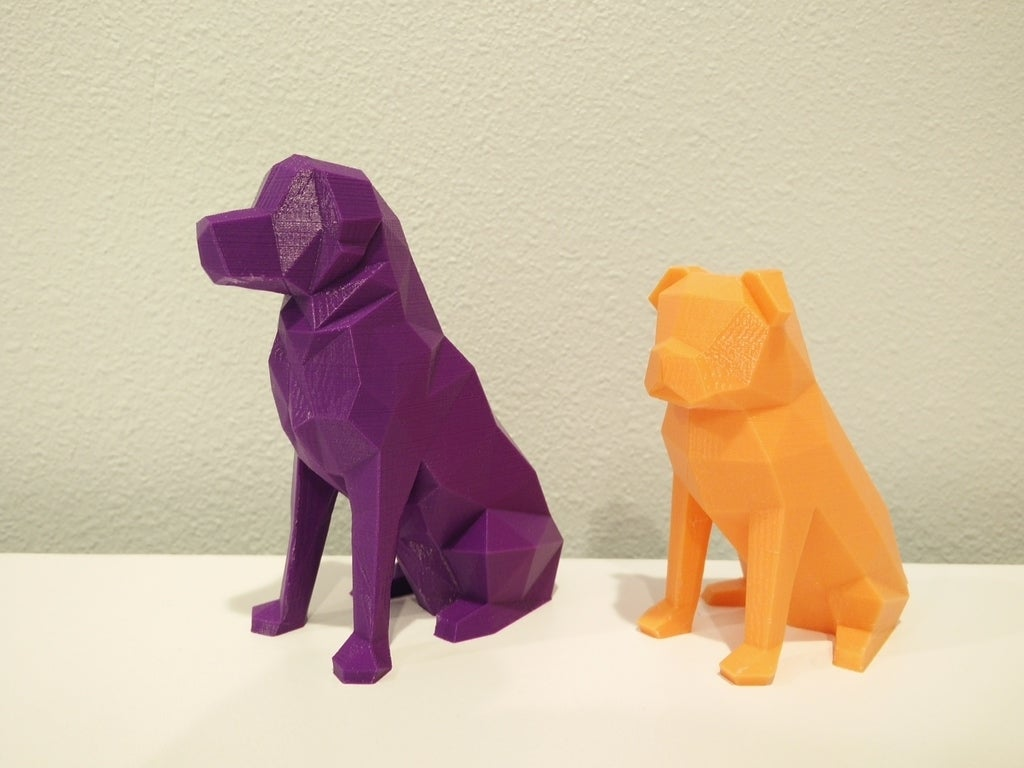Good: (162, 113, 936, 702)
